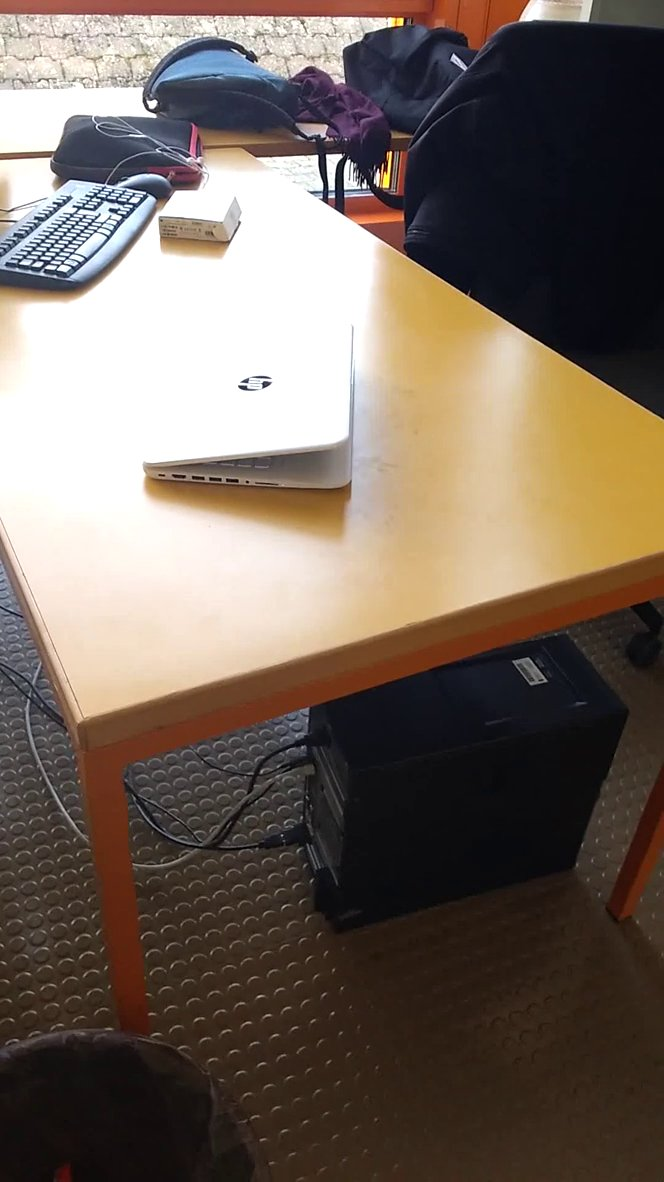bag: (140, 25, 323, 157), (332, 19, 499, 140)
laptop: (126, 307, 393, 518)
